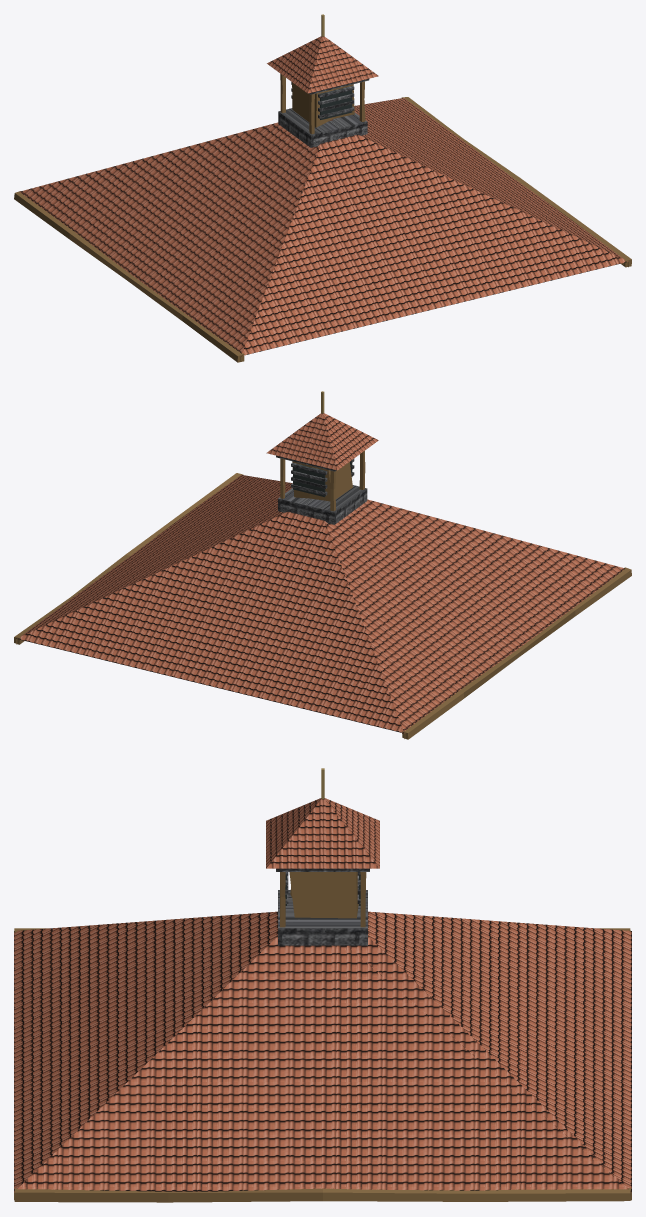
File: town_Roof_05_hip.glb
3 views of the same model, one above another, from view 1: azimuth 30°, elevation 25°; view 2: azimuth 150°, elevation 25°; view 3: azimuth 270°, elevation 25° (orthographic). The views are drawn at different scales.
Visible parts, largest first — view 1: town_Roof_05_hip.005; view 2: town_Roof_05_hip.005; view 3: town_Roof_05_hip.005.
Part boxes in pixels (x1,y1,x2,y2): town_Roof_05_hip.005: [14, 14, 631, 362]; town_Roof_05_hip.005: [14, 391, 631, 739]; town_Roof_05_hip.005: [14, 768, 631, 1202].
Size of the model in its own units: 7.13 by 3.76 by 7.
3 materials, 2 textured.
